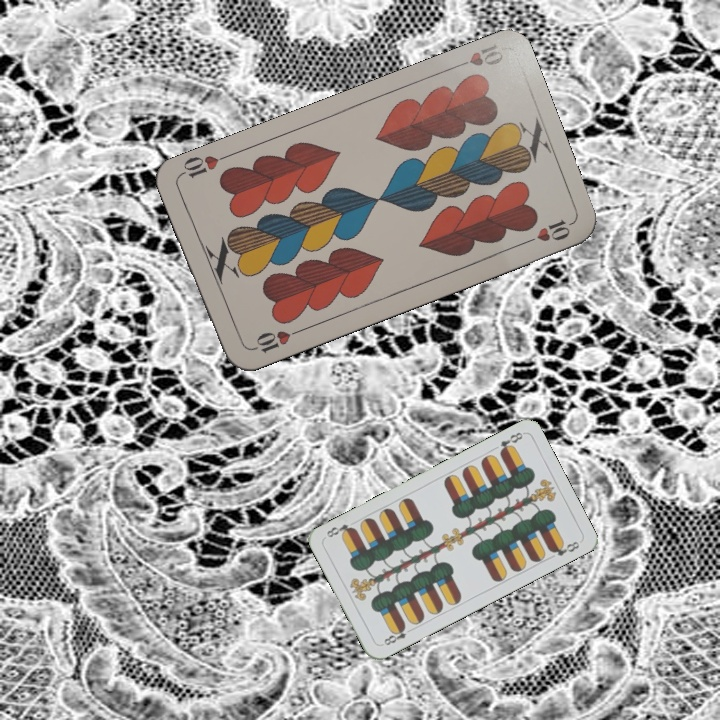E8: (377, 621, 415, 648), (496, 428, 525, 457)
H10: (448, 40, 506, 72), (246, 325, 303, 357)
